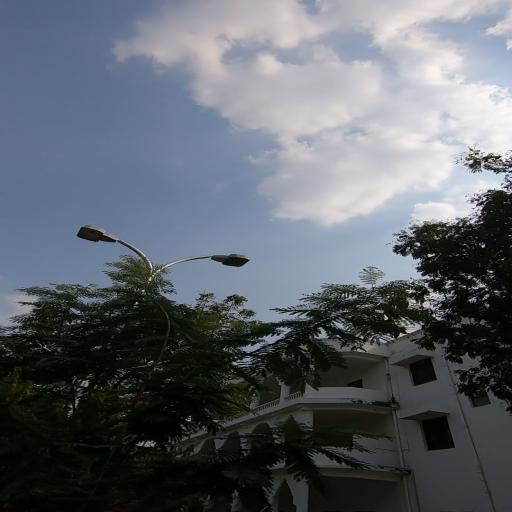Street_light: (70, 220, 137, 253), (195, 249, 262, 272)
